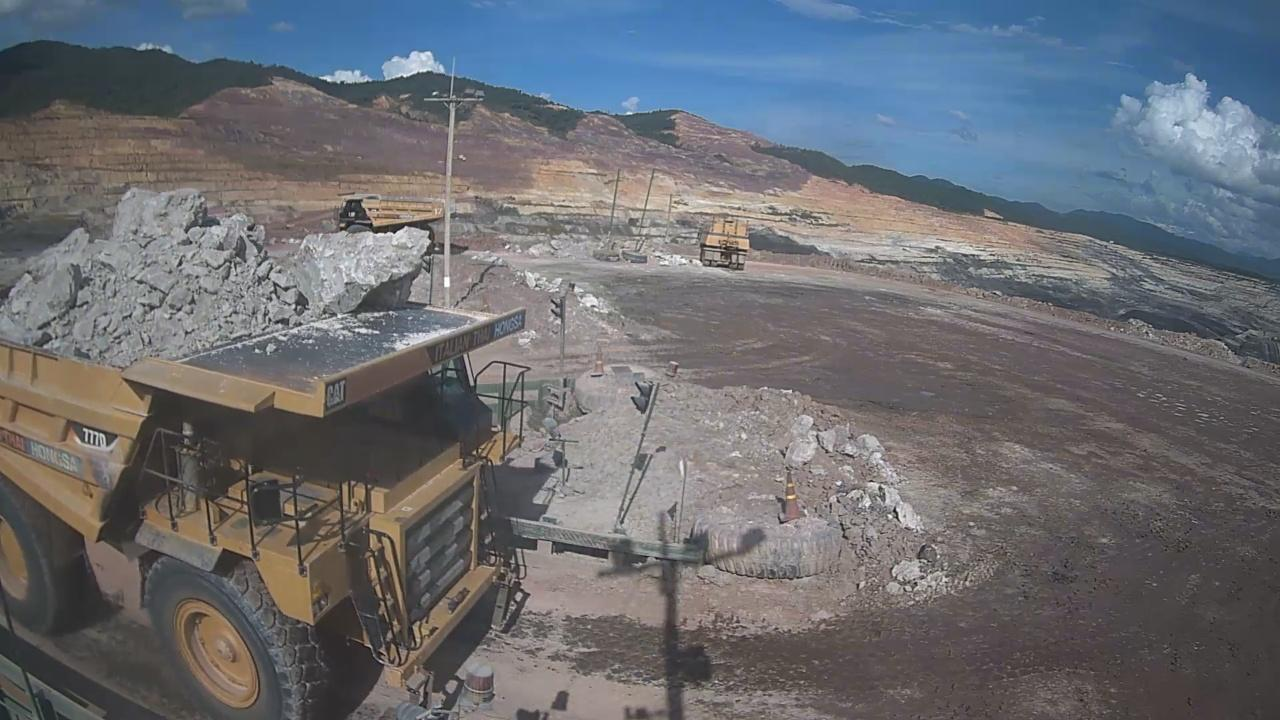front_number: (401, 496, 479, 618)
full_load: (28, 186, 428, 359)
mining_truck: (0, 180, 544, 720)
truck_size: (68, 419, 126, 454)
